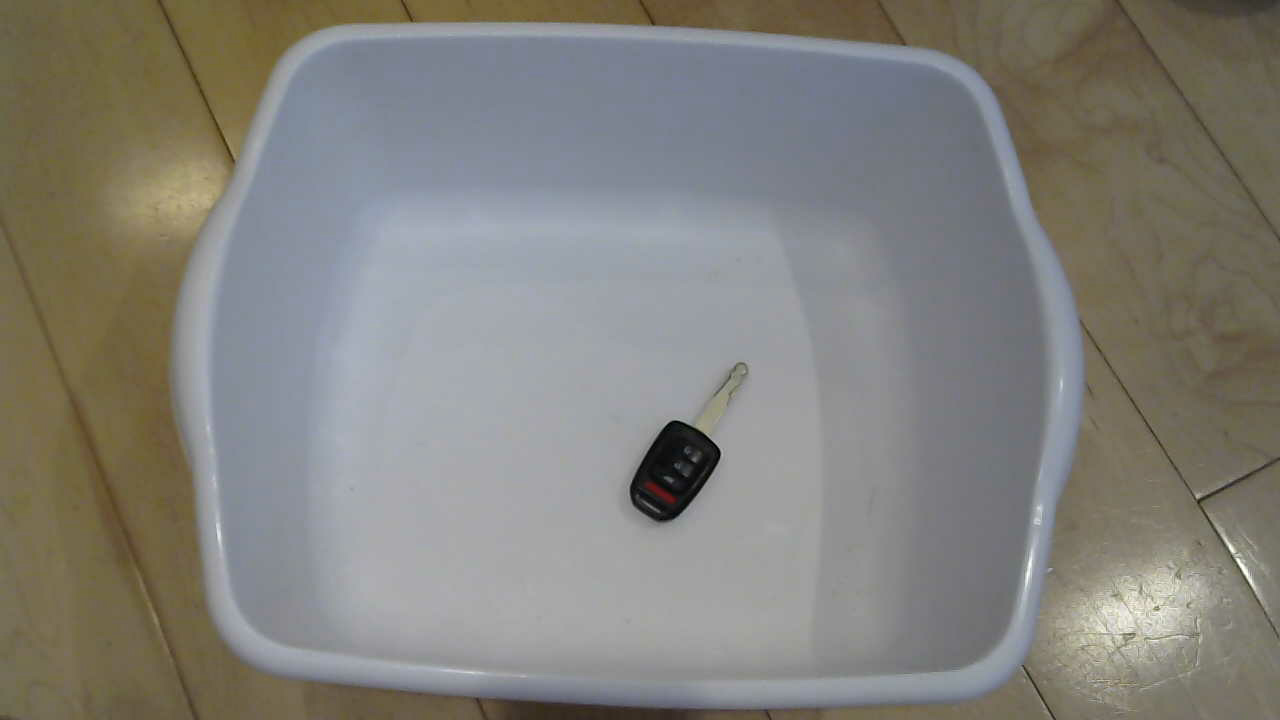key: (615, 357, 769, 531)
